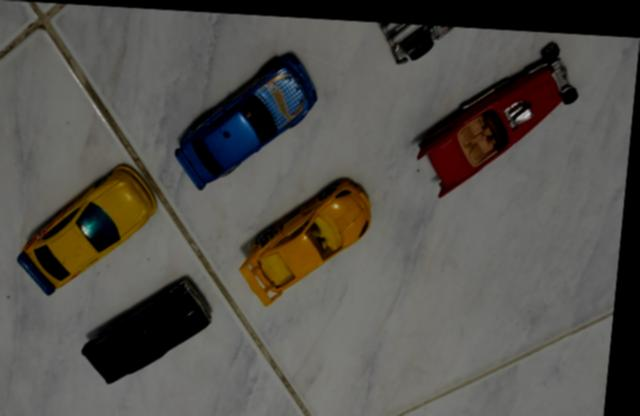01_FORD: (87, 272, 221, 382)
02_OZSOME: (20, 161, 162, 297)
03_V8: (415, 35, 581, 193)
04_MERZEDES: (176, 47, 321, 187)
05_DC121: (378, 18, 457, 60)
07_RHLTURBO: (243, 172, 376, 302)
